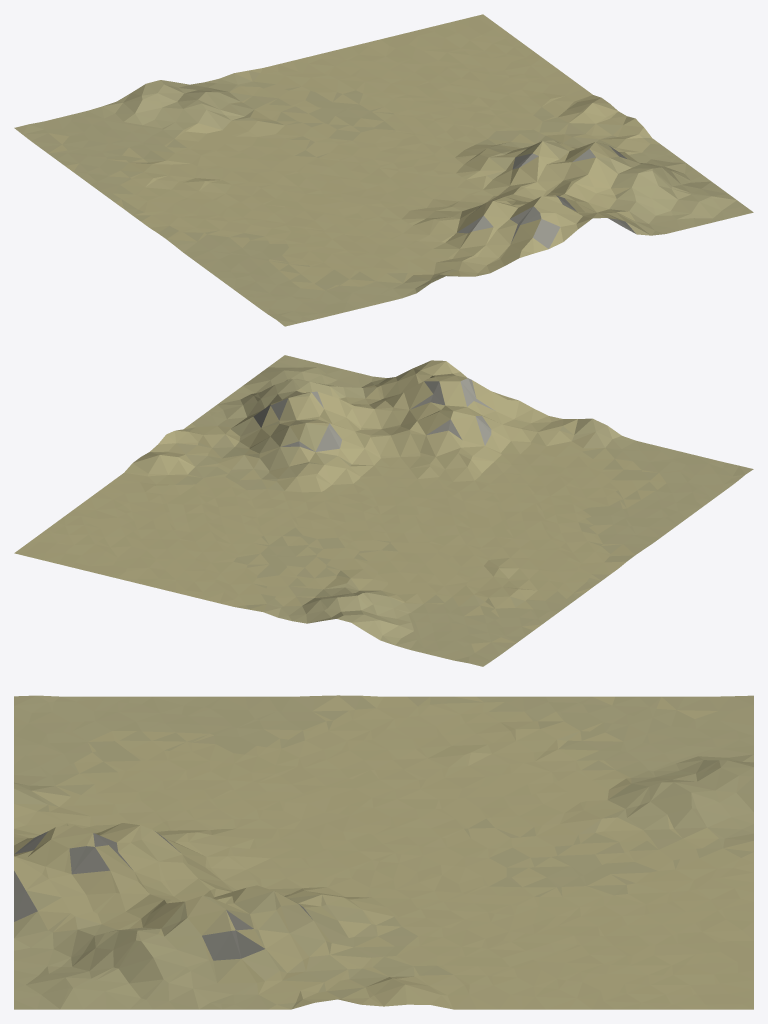
Rendered from Ground_6_-1.glb.
3 views of the same model, one above another, from view 1: azimuth 30°, elevation 25°; view 2: azimuth 150°, elevation 25°; view 3: azimuth 270°, elevation 25° (orthographic). The views are drawn at different scales.
Parts seen in each view (by area): view 1: Ground_6_-1; view 2: Ground_6_-1; view 3: Ground_6_-1.
Part boxes in pixels (<box>): Ground_6_-1: <box>14,14,753,326</box>; Ground_6_-1: <box>14,355,753,666</box>; Ground_6_-1: <box>14,695,753,1009</box>.
Bounding box in the file's own units: 768 × 62.3 × 768.
